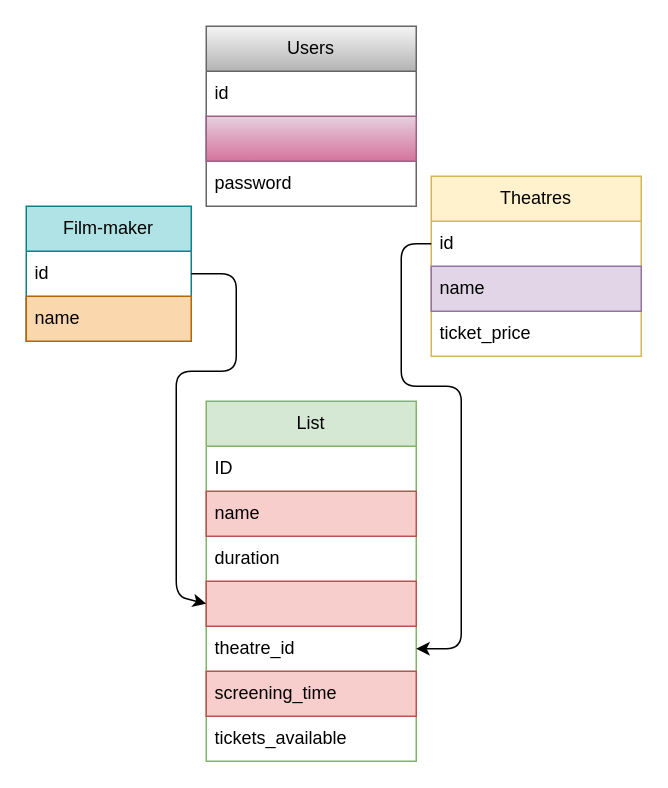
Some shapes in this 668 by 788 pixel diagram are drawn without their labels. Each missing label, with the centre of its shape:
filmmaker_id: the point at 310,603
username: the point at 310,138
